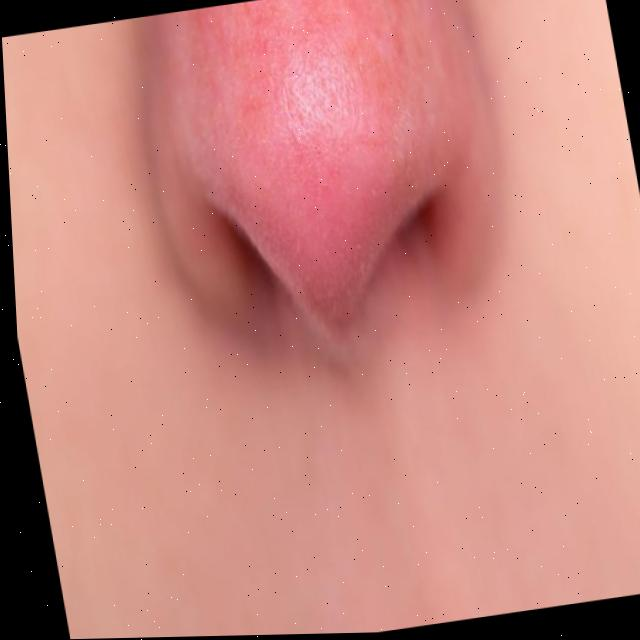Rosacea: (199, 0, 472, 286)
